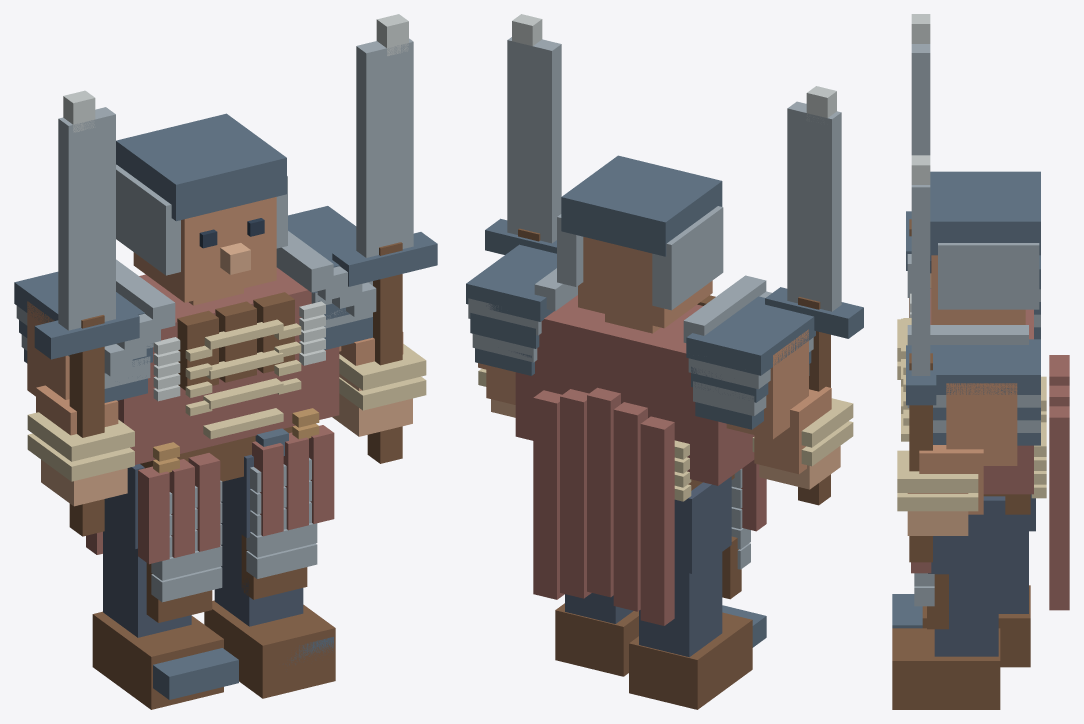
Rendered from arena-q-blade-captain.glb.
The picture shows the model from 3 angles, left to right: view 1: azimuth 30°, elevation 25°; view 2: azimuth 150°, elevation 25°; view 3: azimuth 270°, elevation 25°; orthographic projection. The views are drawn at different scales.
Parts seen in each view (by area): view 1: Weapon, Boots, Helmet, Shoulders, Skirt, Cloth, Legs, Greaves, Wraps, Head, Vest, Seams (+6 smaller); view 2: Cape, Weapon, Shoulders, Cloth, Helmet, Boots, Legs, Arms, Head, Wraps, Greaves, Hands (+2 smaller); view 3: Helmet, Legs, Weapon, Boots, Shoulders, Arms, Cape, Wraps, Cloth, Head, Seams, Greaves (+2 smaller).
Part boxes in pixels (left/top/right/bottom): Weapon: left=34, top=14, right=437, bottom=536; Boots: left=92, top=600, right=335, bottom=709; Helmet: left=116, top=113, right=287, bottom=275; Shoulders: left=14, top=206, right=376, bottom=402; Skirt: left=138, top=425, right=334, bottom=564; Cloth: left=117, top=267, right=339, bottom=464; Legs: left=103, top=454, right=303, bottom=637; Greaves: left=146, top=458, right=317, bottom=622; Wraps: left=27, top=344, right=426, bottom=481; Head: left=133, top=197, right=276, bottom=305; Vest: left=177, top=292, right=294, bottom=390; Seams: left=203, top=319, right=283, bottom=439; Cape: left=533, top=387, right=674, bottom=625; Weapon: left=485, top=14, right=863, bottom=505; Shoulders: left=466, top=244, right=815, bottom=429; Cloth: left=515, top=295, right=754, bottom=485; Helmet: left=557, top=155, right=723, bottom=310; Boots: left=555, top=603, right=766, bottom=709; Legs: left=565, top=476, right=731, bottom=657; Arms: left=478, top=329, right=831, bottom=474; Head: left=578, top=237, right=712, bottom=333; Wraps: left=478, top=368, right=853, bottom=466; Greaves: left=722, top=469, right=750, bottom=599; Hands: left=491, top=399, right=840, bottom=489; Helmet: left=930, top=171, right=1040, bottom=309; Legs: left=928, top=494, right=1035, bottom=656; Weapon: left=906, top=14, right=936, bottom=562; Boots: left=892, top=585, right=1030, bottom=709; Shoulders: left=907, top=254, right=1040, bottom=445; Arms: left=919, top=383, right=1017, bottom=514; Cape: left=1049, top=355, right=1069, bottom=610; Wraps: left=897, top=319, right=978, bottom=511; Cloth: left=930, top=288, right=1033, bottom=494; Head: left=931, top=255, right=1025, bottom=324; Seams: left=901, top=318, right=1046, bottom=498; Greaves: left=914, top=573, right=948, bottom=629.
Size of the model in its own units: 1.29 by 2.02 by 0.5567.
